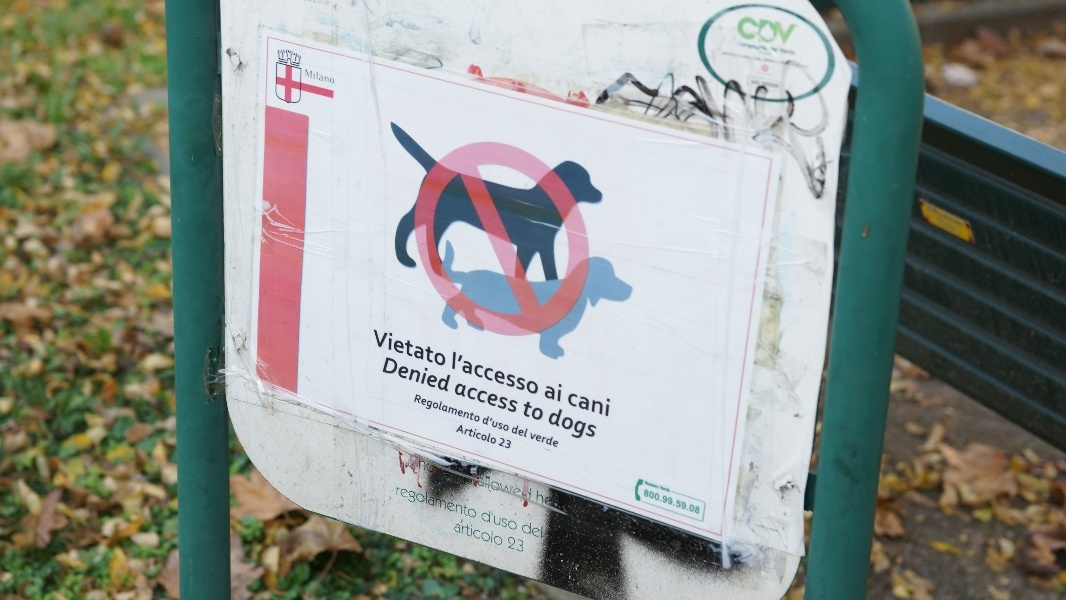text: (417, 456, 432, 504), (433, 456, 448, 504), (449, 456, 464, 504), (465, 456, 480, 504), (481, 456, 496, 504), (497, 456, 512, 504), (513, 456, 528, 504), (465, 351, 480, 396), (481, 351, 496, 396), (497, 351, 512, 396), (513, 351, 528, 396), (385, 326, 400, 368), (401, 326, 416, 368), (417, 326, 432, 368), (561, 406, 576, 445), (577, 406, 592, 445), (433, 326, 446, 368), (401, 357, 416, 393), (417, 357, 432, 393), (433, 357, 448, 393), (401, 485, 416, 520), (417, 485, 432, 520), (433, 485, 448, 520), (449, 485, 464, 520), (386, 357, 400, 393), (453, 351, 464, 396), (465, 485, 479, 520), (465, 382, 480, 414), (481, 382, 496, 414), (497, 382, 512, 414), (417, 393, 432, 425), (433, 393, 448, 425), (449, 393, 464, 425), (465, 393, 480, 425), (373, 326, 384, 368), (529, 351, 539, 396), (753, 16, 768, 46), (769, 16, 784, 46), (657, 488, 672, 516), (673, 488, 688, 516), (785, 16, 799, 46), (465, 520, 480, 547), (481, 520, 496, 547), (577, 393, 592, 417), (593, 393, 608, 417), (497, 508, 512, 532), (740, 16, 752, 46), (529, 400, 544, 423), (644, 488, 656, 516), (689, 488, 701, 516), (465, 424, 480, 445), (481, 424, 496, 445), (483, 508, 496, 532), (529, 521, 544, 540), (545, 430, 560, 449), (547, 383, 560, 404), (305, 68, 320, 86), (497, 414, 511, 433), (530, 430, 544, 449), (321, 68, 335, 86), (455, 520, 464, 547), (513, 535, 525, 555), (529, 456, 534, 504), (554, 406, 560, 445), (593, 406, 599, 445), (457, 382, 464, 414), (513, 382, 520, 414), (545, 489, 555, 510), (485, 414, 496, 433), (568, 393, 576, 417), (514, 425, 528, 438), (536, 489, 544, 510), (497, 520, 503, 547), (513, 508, 519, 532), (501, 437, 512, 450), (396, 485, 400, 520), (449, 357, 452, 393), (508, 535, 512, 555), (524, 521, 528, 540), (525, 400, 528, 423), (481, 393, 483, 425), (461, 424, 464, 445), (609, 393, 610, 417), (545, 400, 546, 423), (561, 383, 562, 404), (497, 424, 498, 445)
